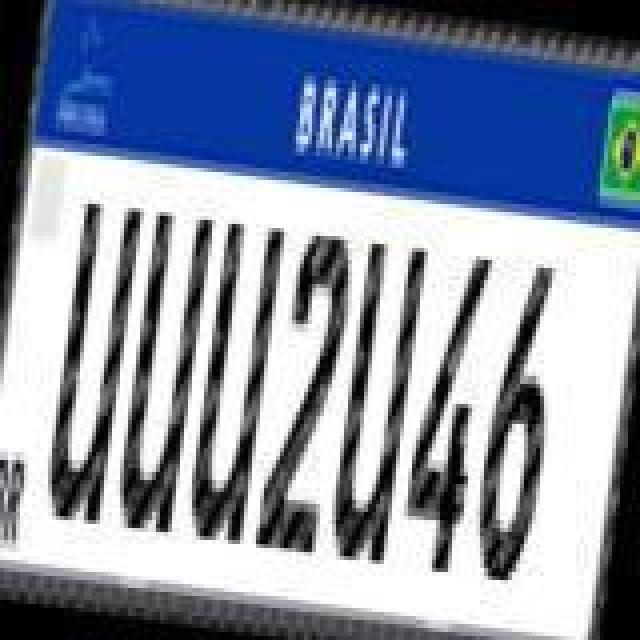2: (250, 224, 358, 560)
4: (396, 242, 500, 574)
6: (466, 254, 574, 586)
U: (178, 216, 286, 552), (38, 194, 146, 526), (112, 208, 216, 544), (324, 236, 428, 572)
